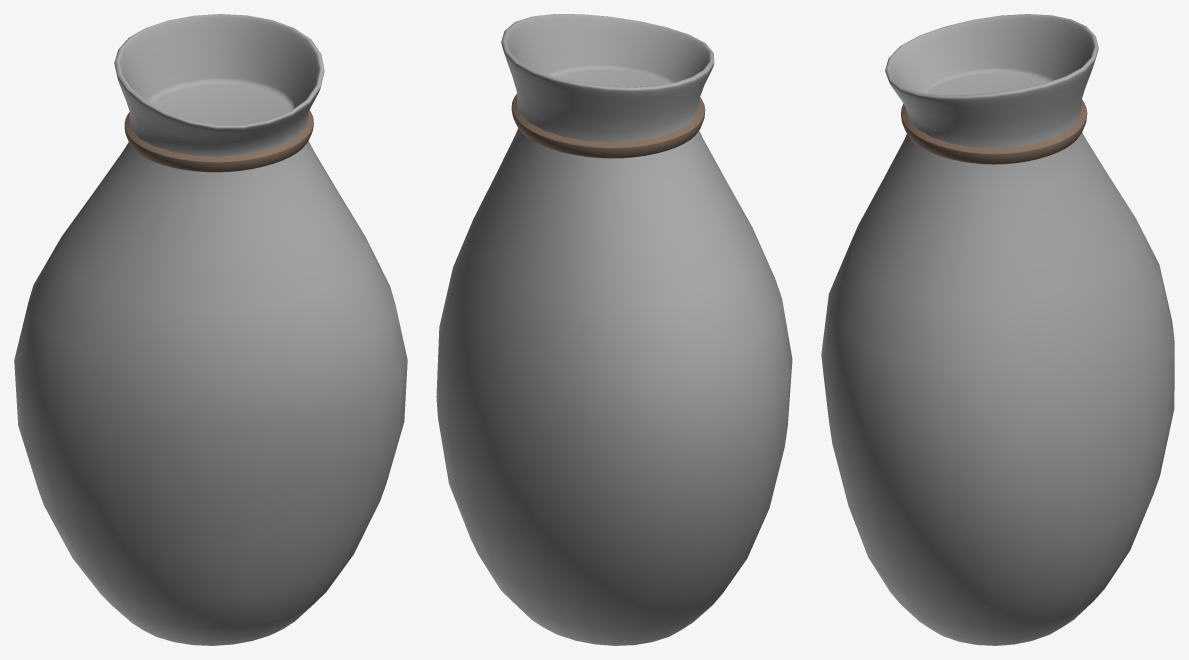
Rendered from SM_Wheatbag_Var1.fbx.
3 views of the same model, side by side, from view 1: azimuth 30°, elevation 25°; view 2: azimuth 150°, elevation 25°; view 3: azimuth 270°, elevation 25° (orthographic). The views are drawn at different scales.
Visible parts, largest first — view 1: SM_Wheatbag_Var1; view 2: SM_Wheatbag_Var1; view 3: SM_Wheatbag_Var1.
Boxes of the visible parts, <box> form: SM_Wheatbag_Var1: <box>14,14,407,645</box>; SM_Wheatbag_Var1: <box>436,14,792,645</box>; SM_Wheatbag_Var1: <box>821,14,1174,645</box>.
Size of the model in its own units: 41.04 by 66.79 by 37.52.
